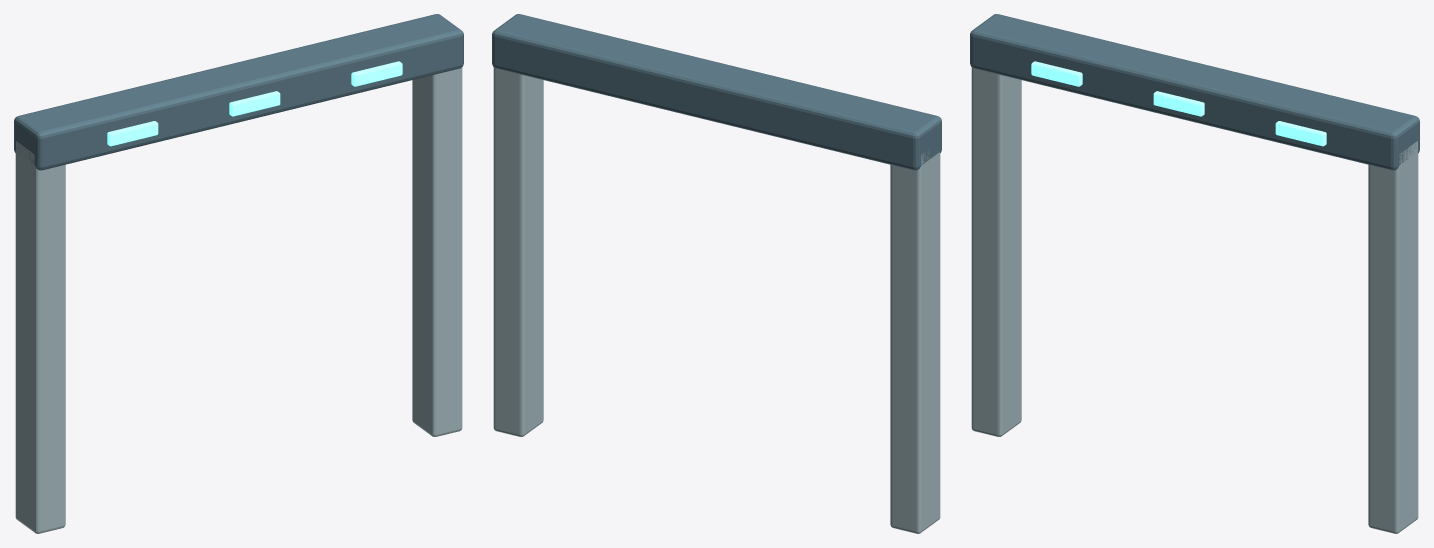
Rendered from SM_LongArch.fbx.
The picture shows the model from 3 angles, left to right: view 1: azimuth 30°, elevation 25°; view 2: azimuth 150°, elevation 25°; view 3: azimuth 330°, elevation 25°; orthographic projection.
Parts seen in each view (by area): view 1: SM_LongArch; view 2: SM_LongArch; view 3: SM_LongArch.
Part boxes in pixels (x1,y1,x2,y2): SM_LongArch: [14, 14, 463, 533]; SM_LongArch: [492, 14, 941, 533]; SM_LongArch: [970, 14, 1419, 533].
Size of the model in its own units: 280 by 35 by 252.
